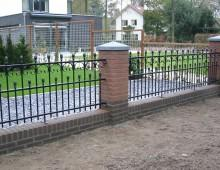obstacle: (3, 4, 217, 167)
